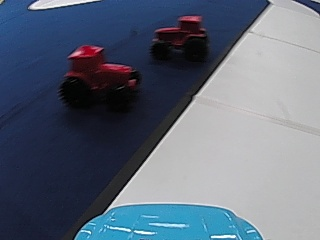tractor: (59, 42, 138, 107), (150, 12, 209, 62)
